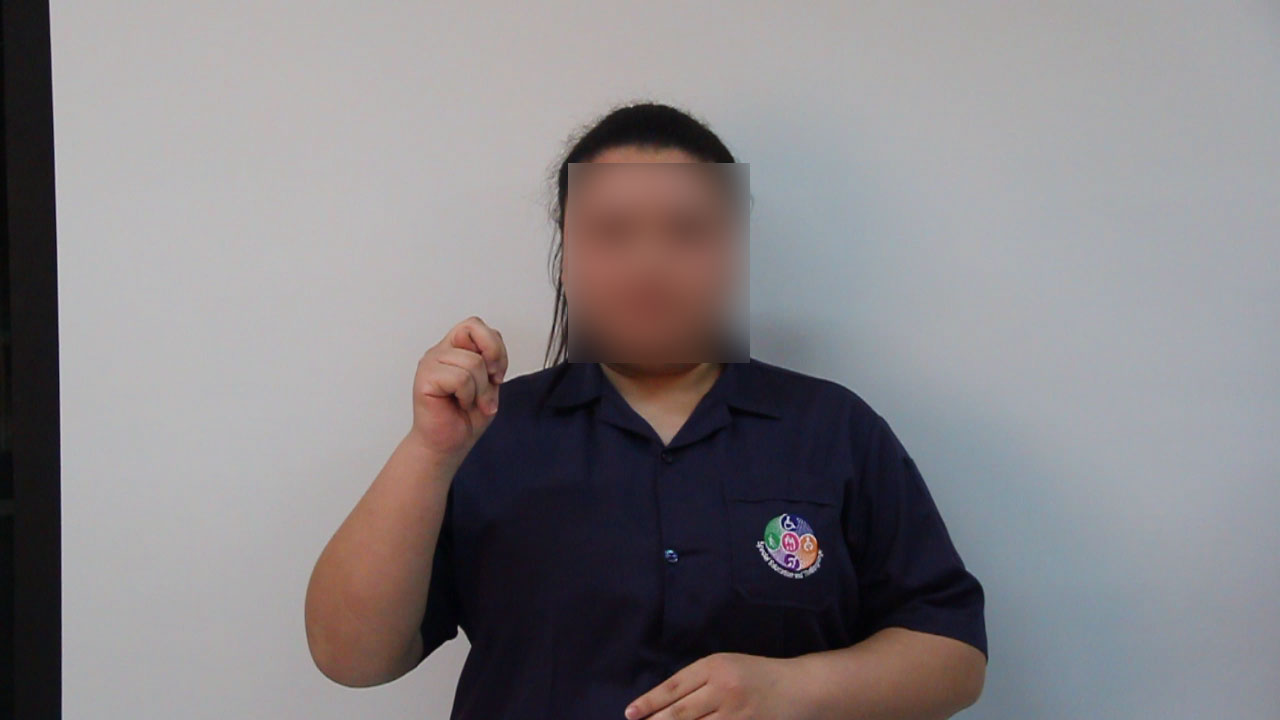nor: (382, 308, 524, 450)
